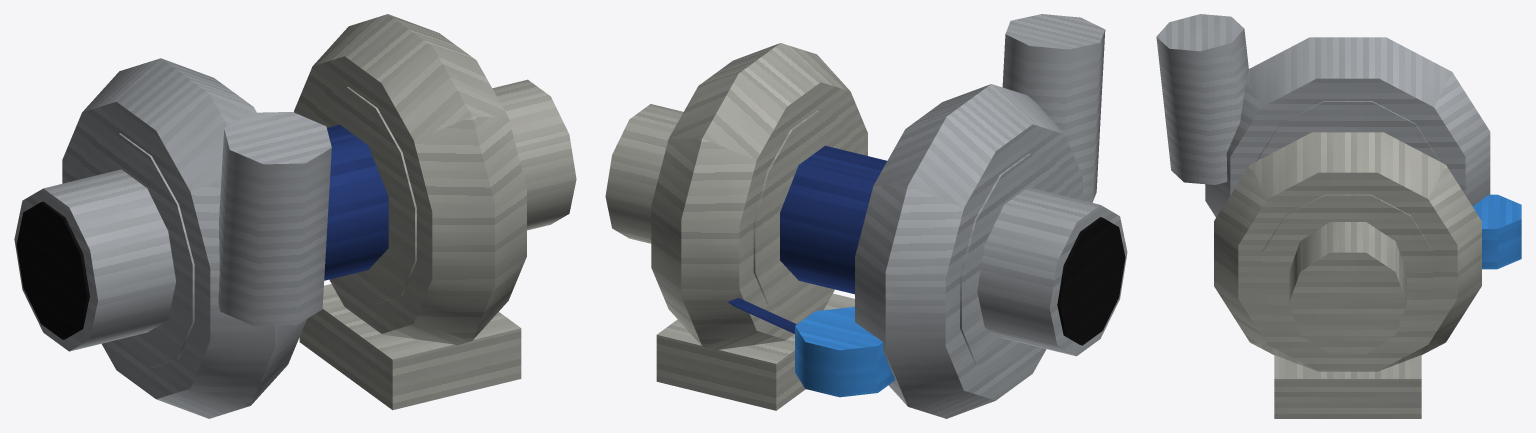
The model's file is turbo_n2.glb.
3 views of the same model, side by side, from view 1: azimuth 30°, elevation 25°; view 2: azimuth 150°, elevation 25°; view 3: azimuth 270°, elevation 25° (orthographic). The views are drawn at different scales.
Parts seen in each view (by area): view 1: turbo_n2; view 2: turbo_n2; view 3: turbo_n2.
Part boxes in pixels (left/top/right/bottom): turbo_n2: left=14, top=14, right=576, bottom=418; turbo_n2: left=605, top=14, right=1127, bottom=418; turbo_n2: left=1156, top=14, right=1521, bottom=418.
Bounding box in the file's own units: 0.3512 × 0.2413 × 0.2872.
Materials: 2 (2 with a texture image).
